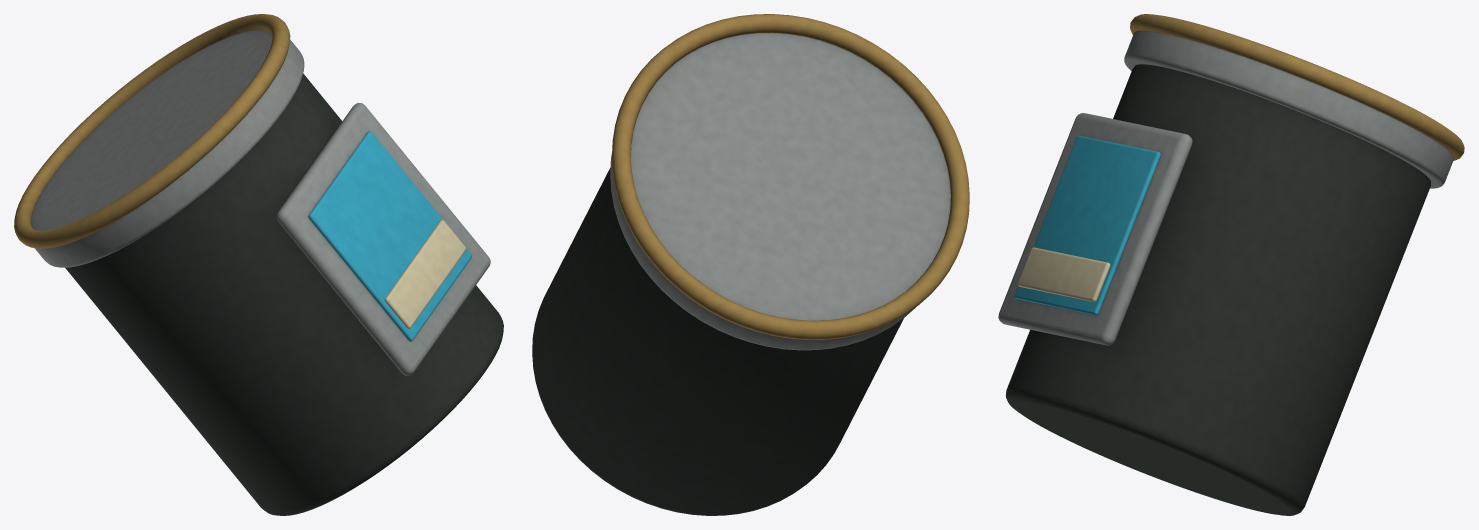
3 renders of one model, left to right at view 1: azimuth 30°, elevation 25°; view 2: azimuth 150°, elevation 25°; view 3: azimuth 270°, elevation 25°, orthographic. The views are drawn at different scales.
Visible parts, largest first — view 1: Closed sample vessel; view 2: Closed sample vessel; view 3: Closed sample vessel.
Boxes of the visible parts, x1,y1,x2,y2 form: Closed sample vessel: [14, 14, 503, 515]; Closed sample vessel: [532, 14, 969, 515]; Closed sample vessel: [998, 14, 1464, 515].
Size of the model in its own units: 1.04 by 1.11 by 0.9893.
Materials: 1 (1 with a texture image).
